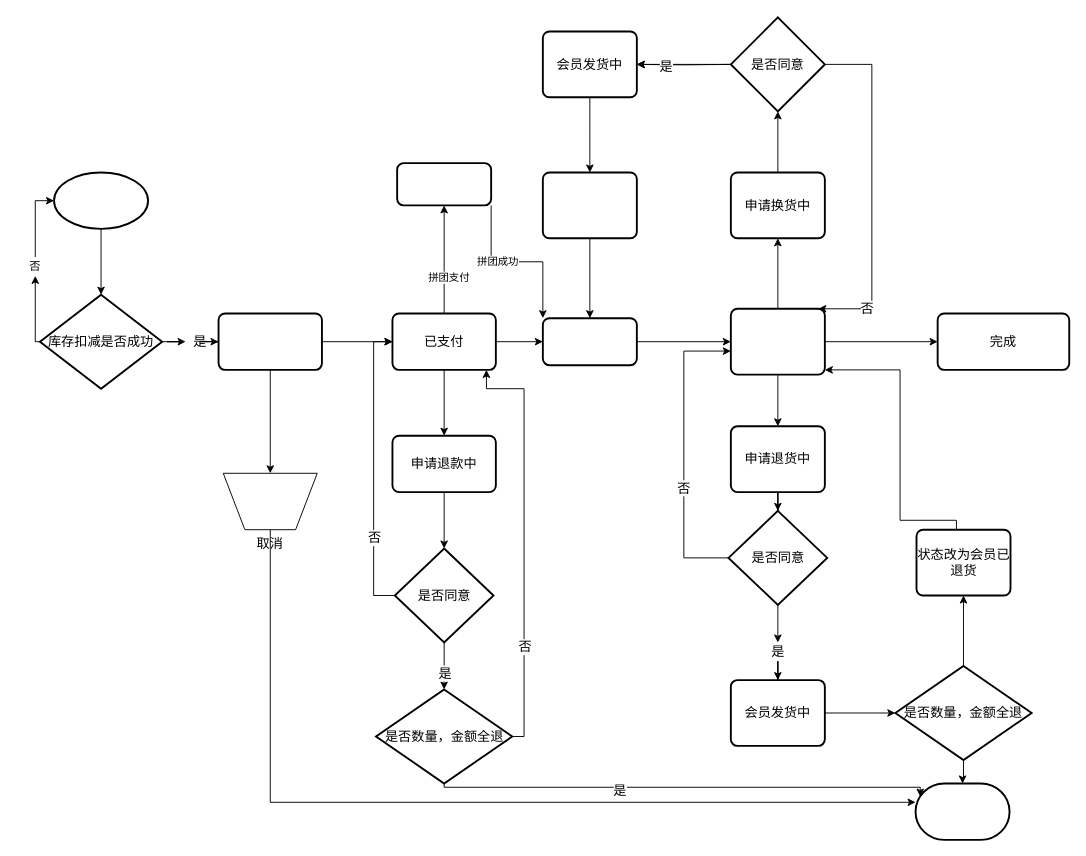
This 1086x856 diagram has some shape labels left out. The centre of each missing label's shape, as x and y in pixels:
"供应商发货中" goes at [589,205].
"关闭" goes at [962,811].
"创建中" goes at [101,200].
"已发货" goes at [589,341].
"已收货" goes at [777,341].
"待商家确认" goes at [444,184].
"未支付" goes at [269,341].
